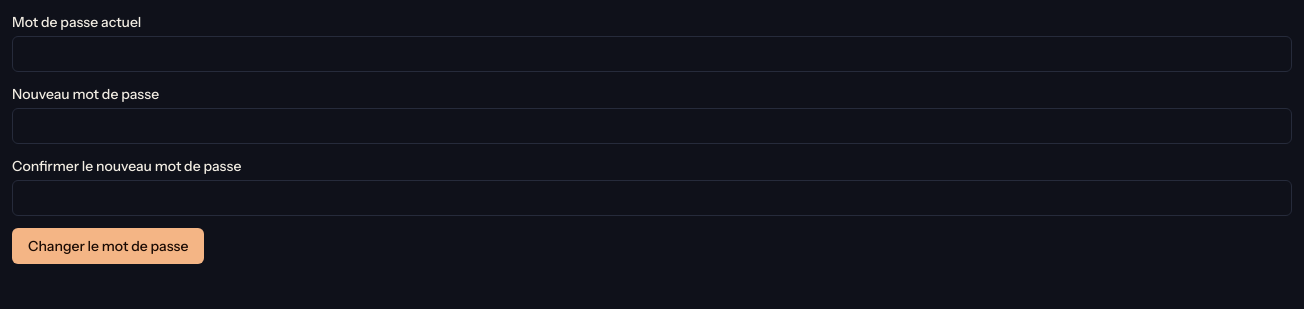
Test: ChangePasswordForm › submits the new password and shows a success message
The width and height of the screenshot is (1304, 309).
Type "oldpassword1" into the password field labelled "Mot de passe actuel".
click(652, 54); type("oldpassword1")  # box [12,36,1292,72]
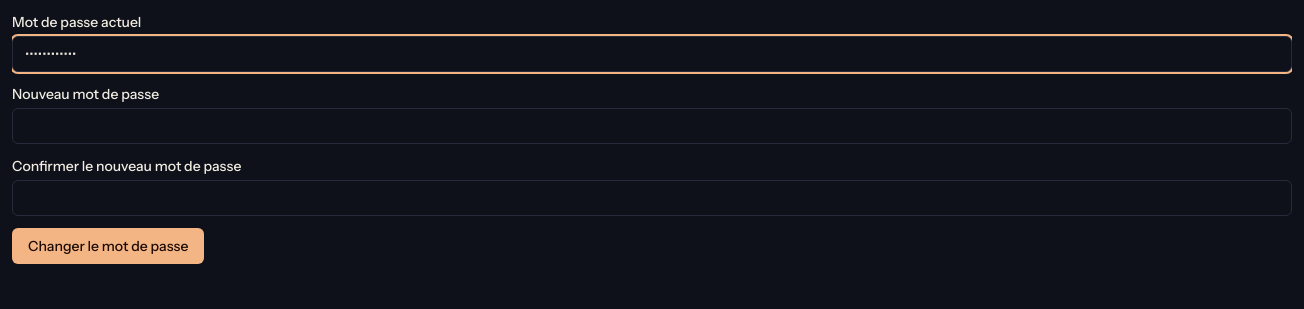
Type "newpassword1" into the password field labelled "Nouveau mot de passe".
click(652, 126); type("newpassword1")  # box [12,108,1292,144]
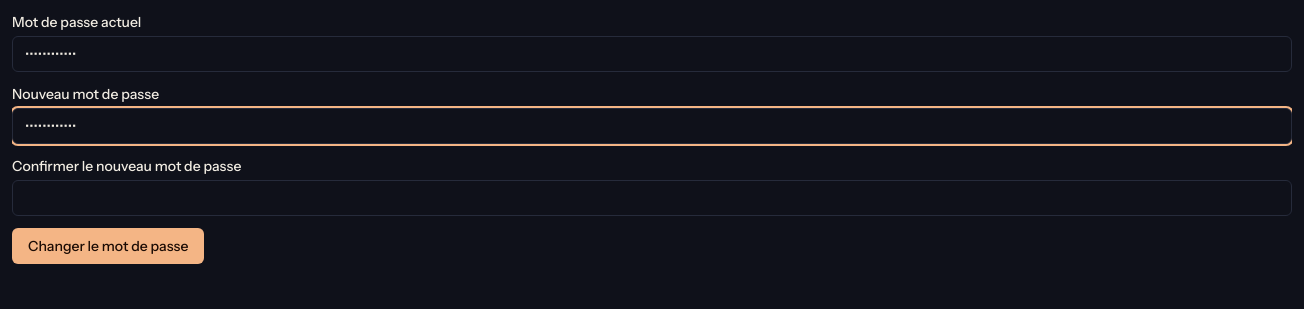
Type "newpassword1" into the password field labelled "Confirmer le nouveau mot de passe".
click(652, 198); type("newpassword1")  # box [12,180,1292,216]
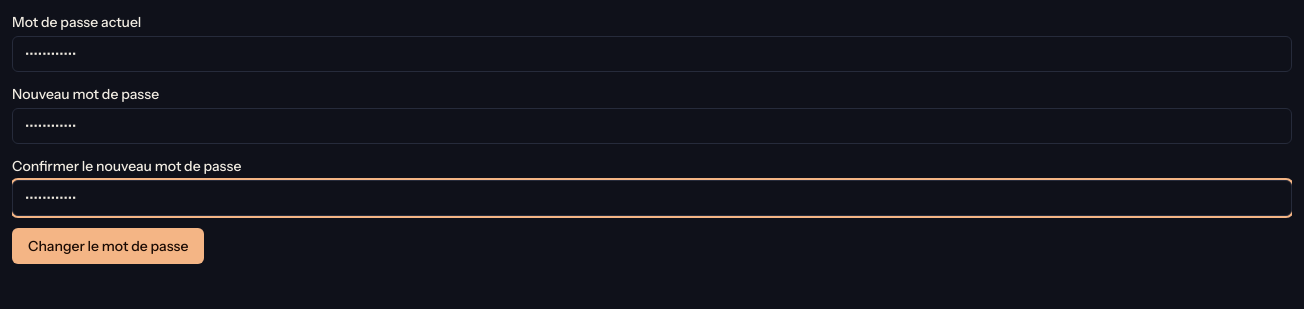
Submit the form from the button "Changer le mot de passe", box [12,228,204,264]
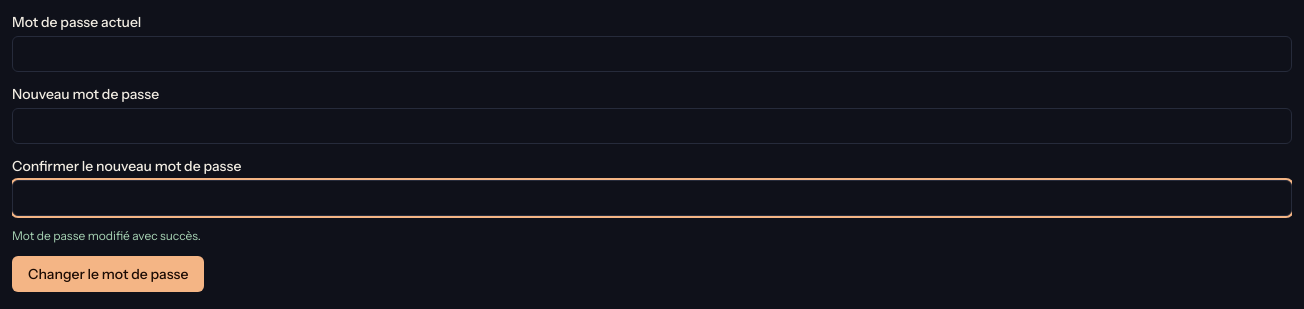
Check: the text "Mot de passe modifié avec succès." is shown, box [12,228,201,243]
